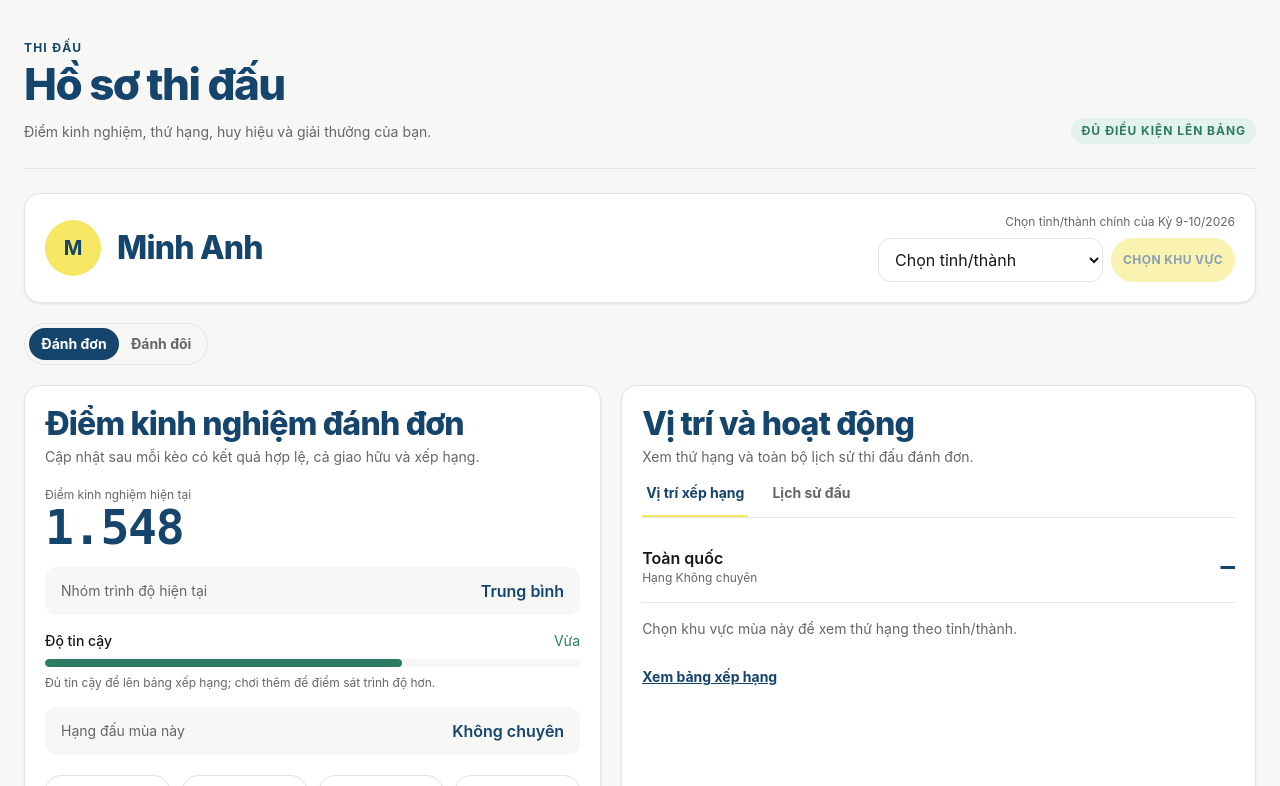
Test: asks for confirmation before locking the season region
Select "Hà Nội" in the dropdown labelled "Chọn tỉnh/thành chính của Kỳ 9-10/2026": (990, 260) [878,238,1103,282]
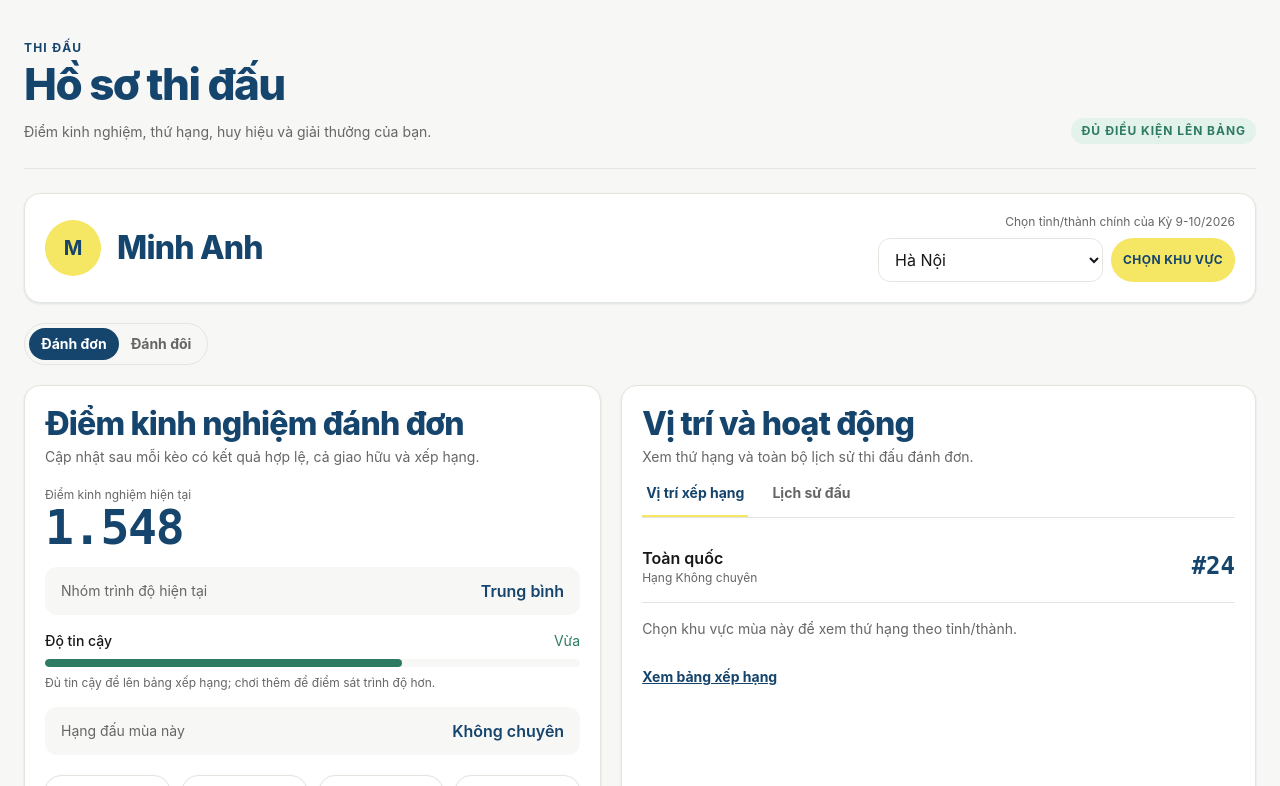
Click the button "Chọn khu vực": (1173, 260) [1111,238,1235,282]
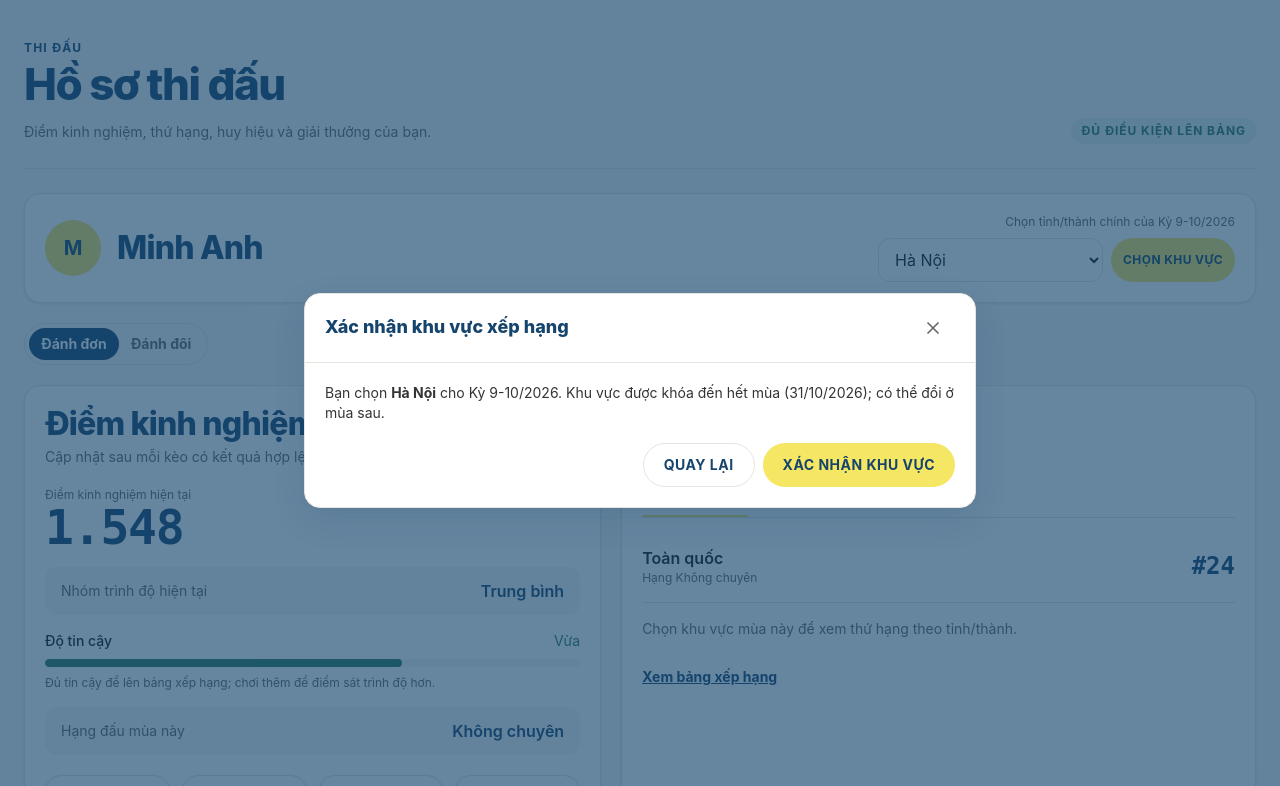
Result: the dialog "Xác nhận khu vực xếp hạng" shows "khóa đến hết mùa" at [558,384,789,400]
Click the button "Xác nhận khu vực": (859, 464) [763,442,955,486]
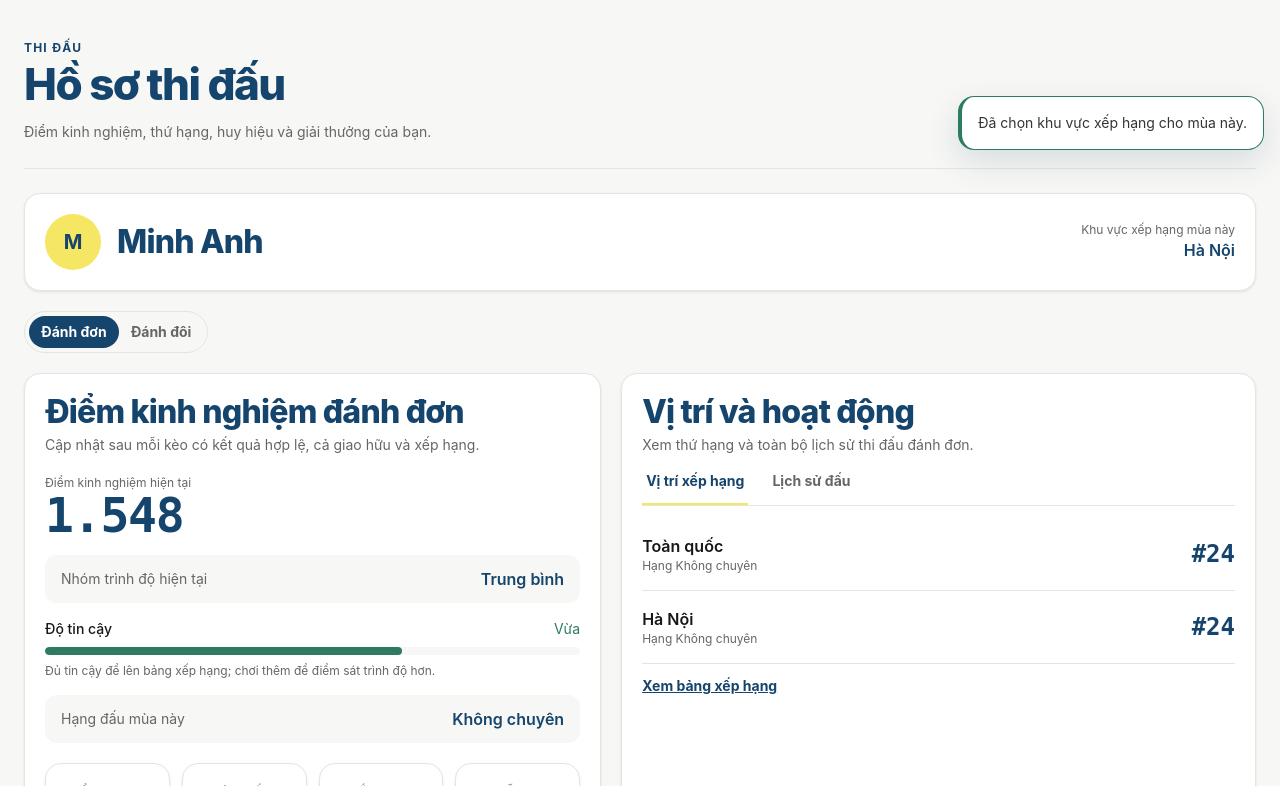
Result: the text "Khu vực xếp hạng mùa này" is shown at [1081,222,1235,238]
